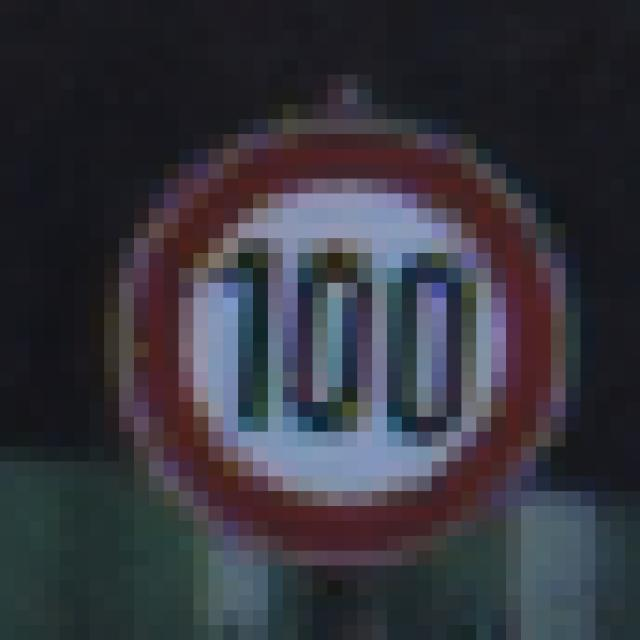Ograniczenie predkosci do 100: (124, 124, 553, 549)
